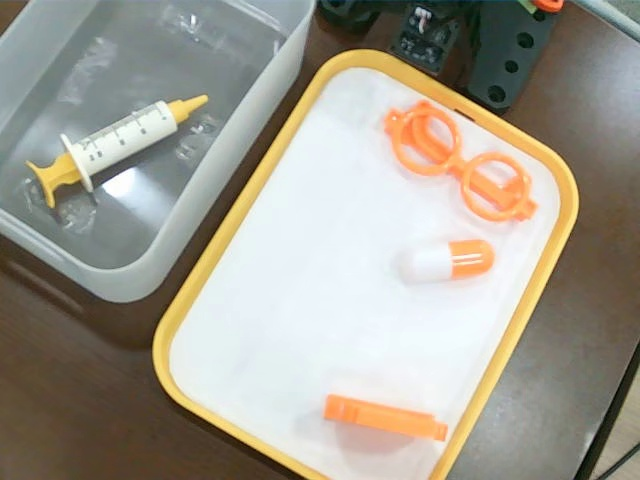pill: (397, 239, 497, 284)
syringe: (25, 95, 212, 211)
